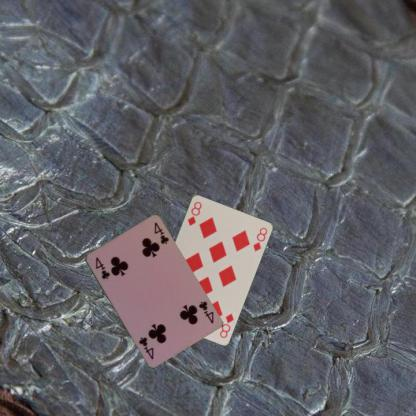4c: (196, 298, 215, 325), (92, 254, 111, 280)
8d: (216, 311, 235, 339), (185, 199, 203, 227)
